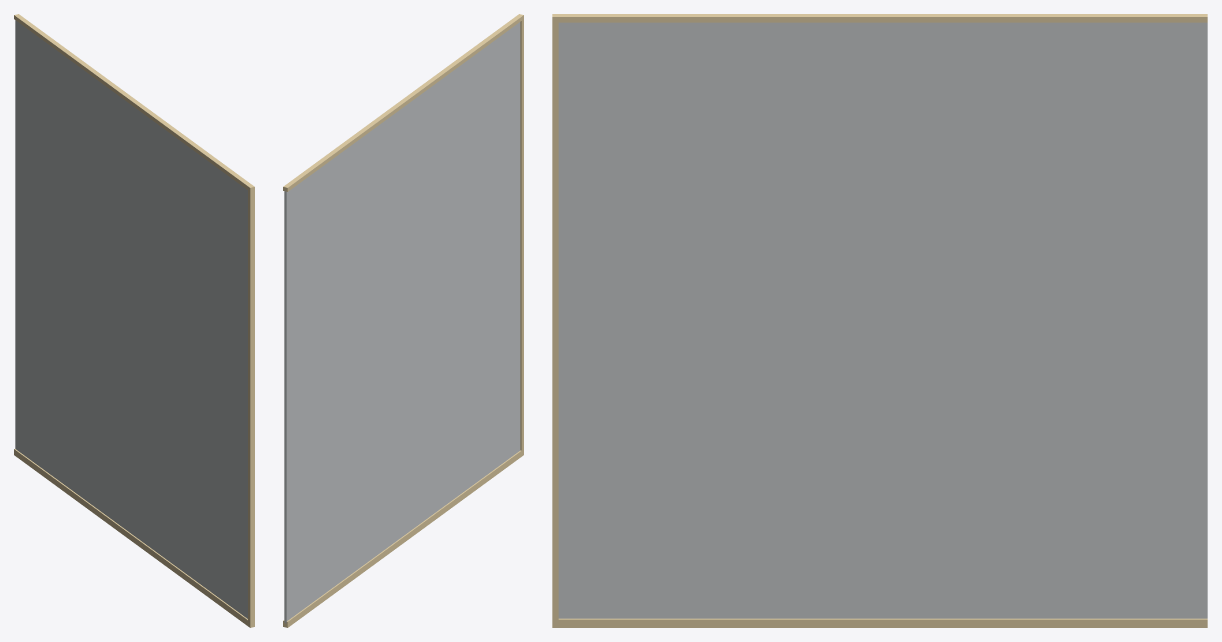
The model's file is SM_Shower_Glass.fbx.
3 views of the same model, side by side, from view 1: azimuth 30°, elevation 25°; view 2: azimuth 150°, elevation 25°; view 3: azimuth 270°, elevation 25° (orthographic). The views are drawn at different scales.
Parts seen in each view (by area): view 1: SM_Shower_Glass; view 2: SM_Shower_Glass; view 3: SM_Shower_Glass.
Part boxes in pixels (x1,y1,x2,y2): SM_Shower_Glass: (14,14,254,627); SM_Shower_Glass: (283,14,523,627); SM_Shower_Glass: (552,14,1207,627).
Bounding box in the file's own units: 2.4 × 217 × 211.
